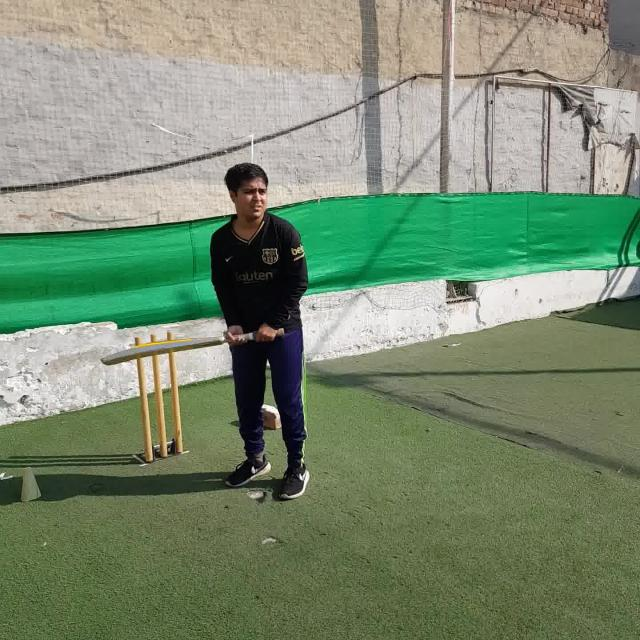bat: (104, 320, 286, 364)
